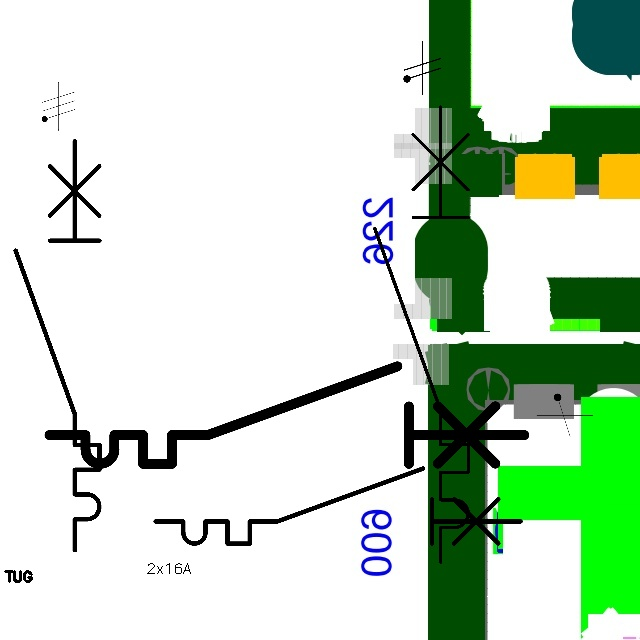interruptor_termomagnetico: (37, 354, 536, 476), (363, 95, 480, 574), (5, 130, 110, 560), (146, 459, 530, 553)
